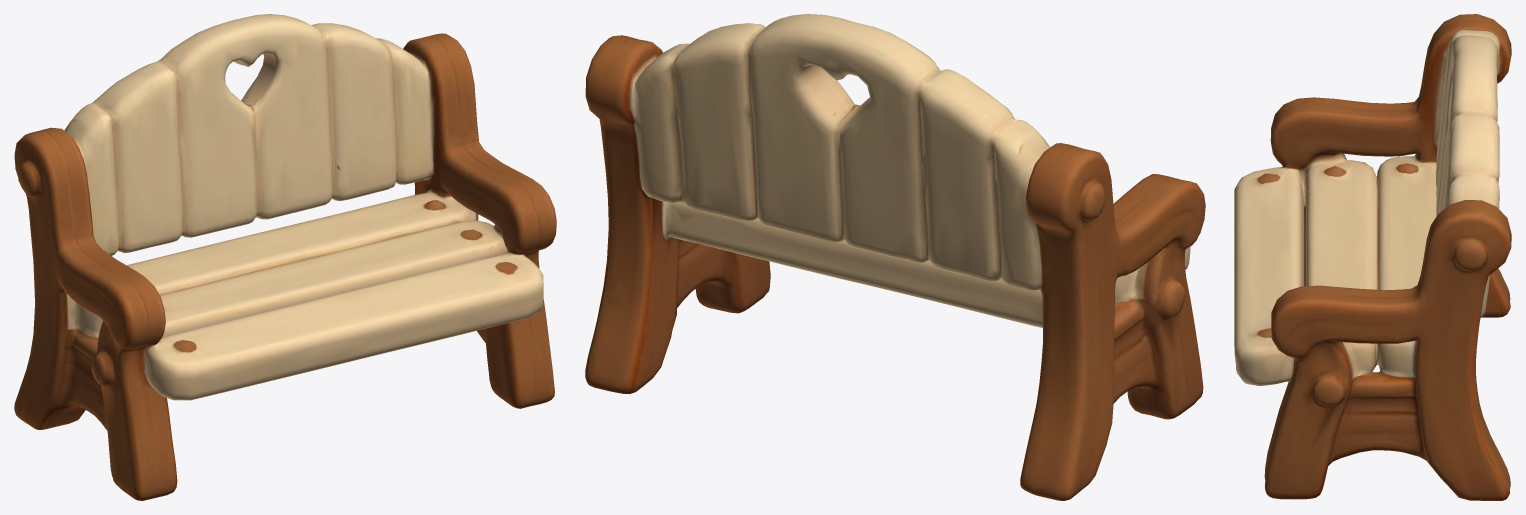
3 renders of one model, left to right at view 1: azimuth 30°, elevation 25°; view 2: azimuth 150°, elevation 25°; view 3: azimuth 270°, elevation 25°, orthographic. The views are drawn at different scales.
Visible parts, largest first — view 1: bench; view 2: bench; view 3: bench.
Part boxes in pixels (box(x1,y1,x2,y2)): bench: box(14, 14, 556, 500); bench: box(585, 14, 1205, 500); bench: box(1234, 14, 1511, 500).
Size of the model in its own units: 1.4 by 1.08 by 0.7752.
1 material, 1 textured.
